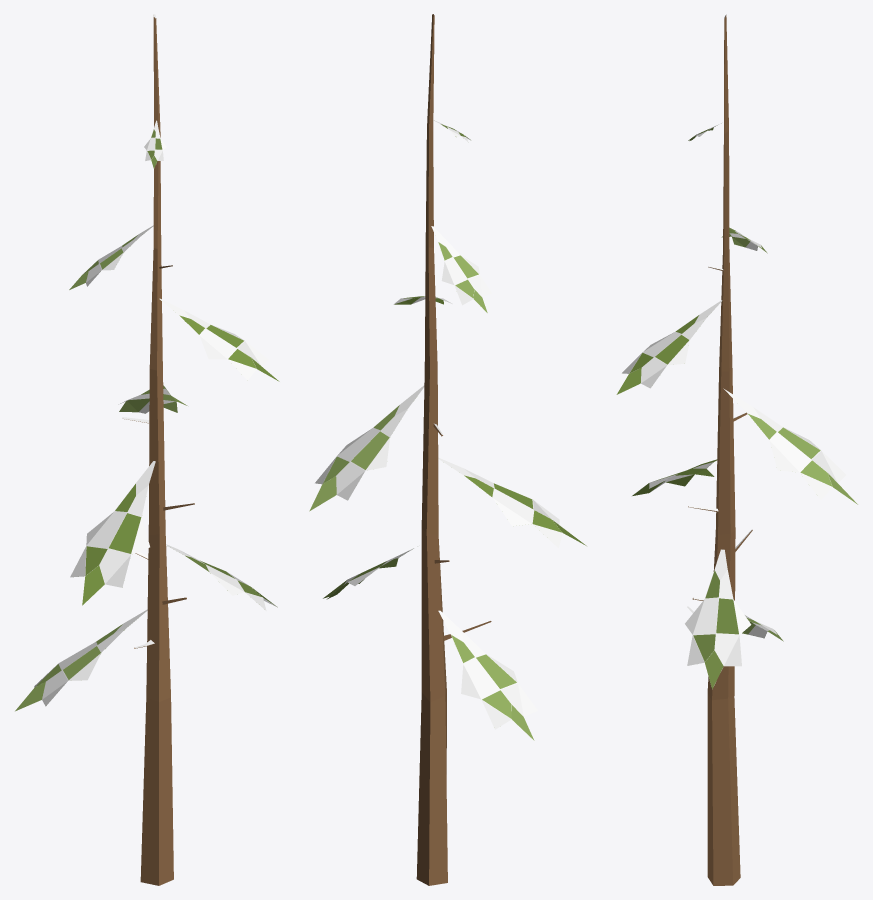
Rendered from Dead_Pine_Tree_l_Snow_02.fbx.
3 views of the same model, side by side, from view 1: azimuth 30°, elevation 25°; view 2: azimuth 150°, elevation 25°; view 3: azimuth 270°, elevation 25° (orthographic).
Visible parts, largest first — view 1: Dead_Pine_Tree_l_Snow_02; view 2: Dead_Pine_Tree_l_Snow_02; view 3: Dead_Pine_Tree_l_Snow_02.
Boxes of the visible parts, x1,y1,x2,y2 form: Dead_Pine_Tree_l_Snow_02: (15,14,279,885); Dead_Pine_Tree_l_Snow_02: (309,14,586,885); Dead_Pine_Tree_l_Snow_02: (616,14,857,885).
Bounding box in the file's own units: 508 × 1764 × 448.
